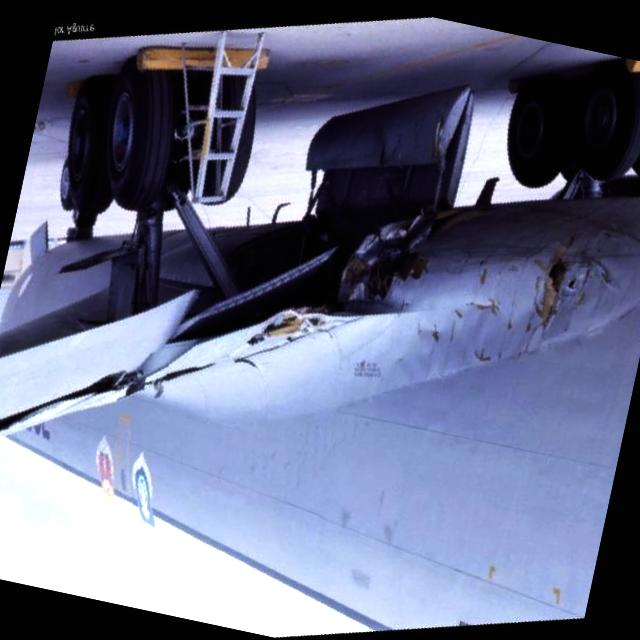crack: (530, 224, 585, 335)
dent: (396, 246, 540, 399)
